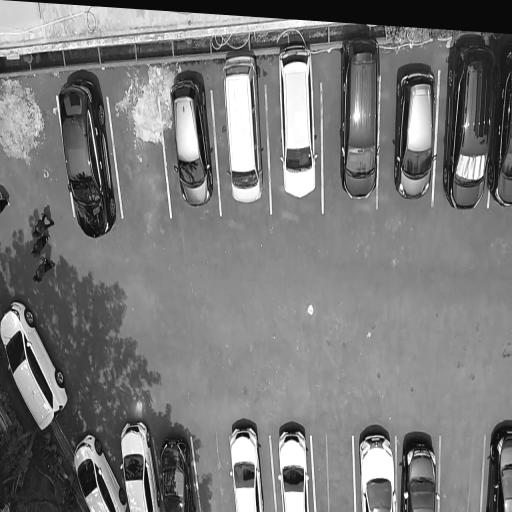Car: (56, 79, 116, 244), (443, 31, 493, 225), (0, 299, 70, 437), (390, 52, 439, 212), (338, 31, 380, 210), (276, 39, 318, 202), (222, 51, 263, 208), (171, 63, 212, 217), (73, 427, 126, 512), (488, 46, 512, 223), (357, 422, 396, 512), (400, 422, 439, 512), (121, 420, 156, 512), (276, 423, 309, 512), (229, 420, 260, 512), (158, 433, 193, 512), (487, 425, 512, 512)
Space Available: (124, 80, 161, 230), (442, 419, 479, 512), (315, 422, 352, 512), (200, 434, 230, 512)
